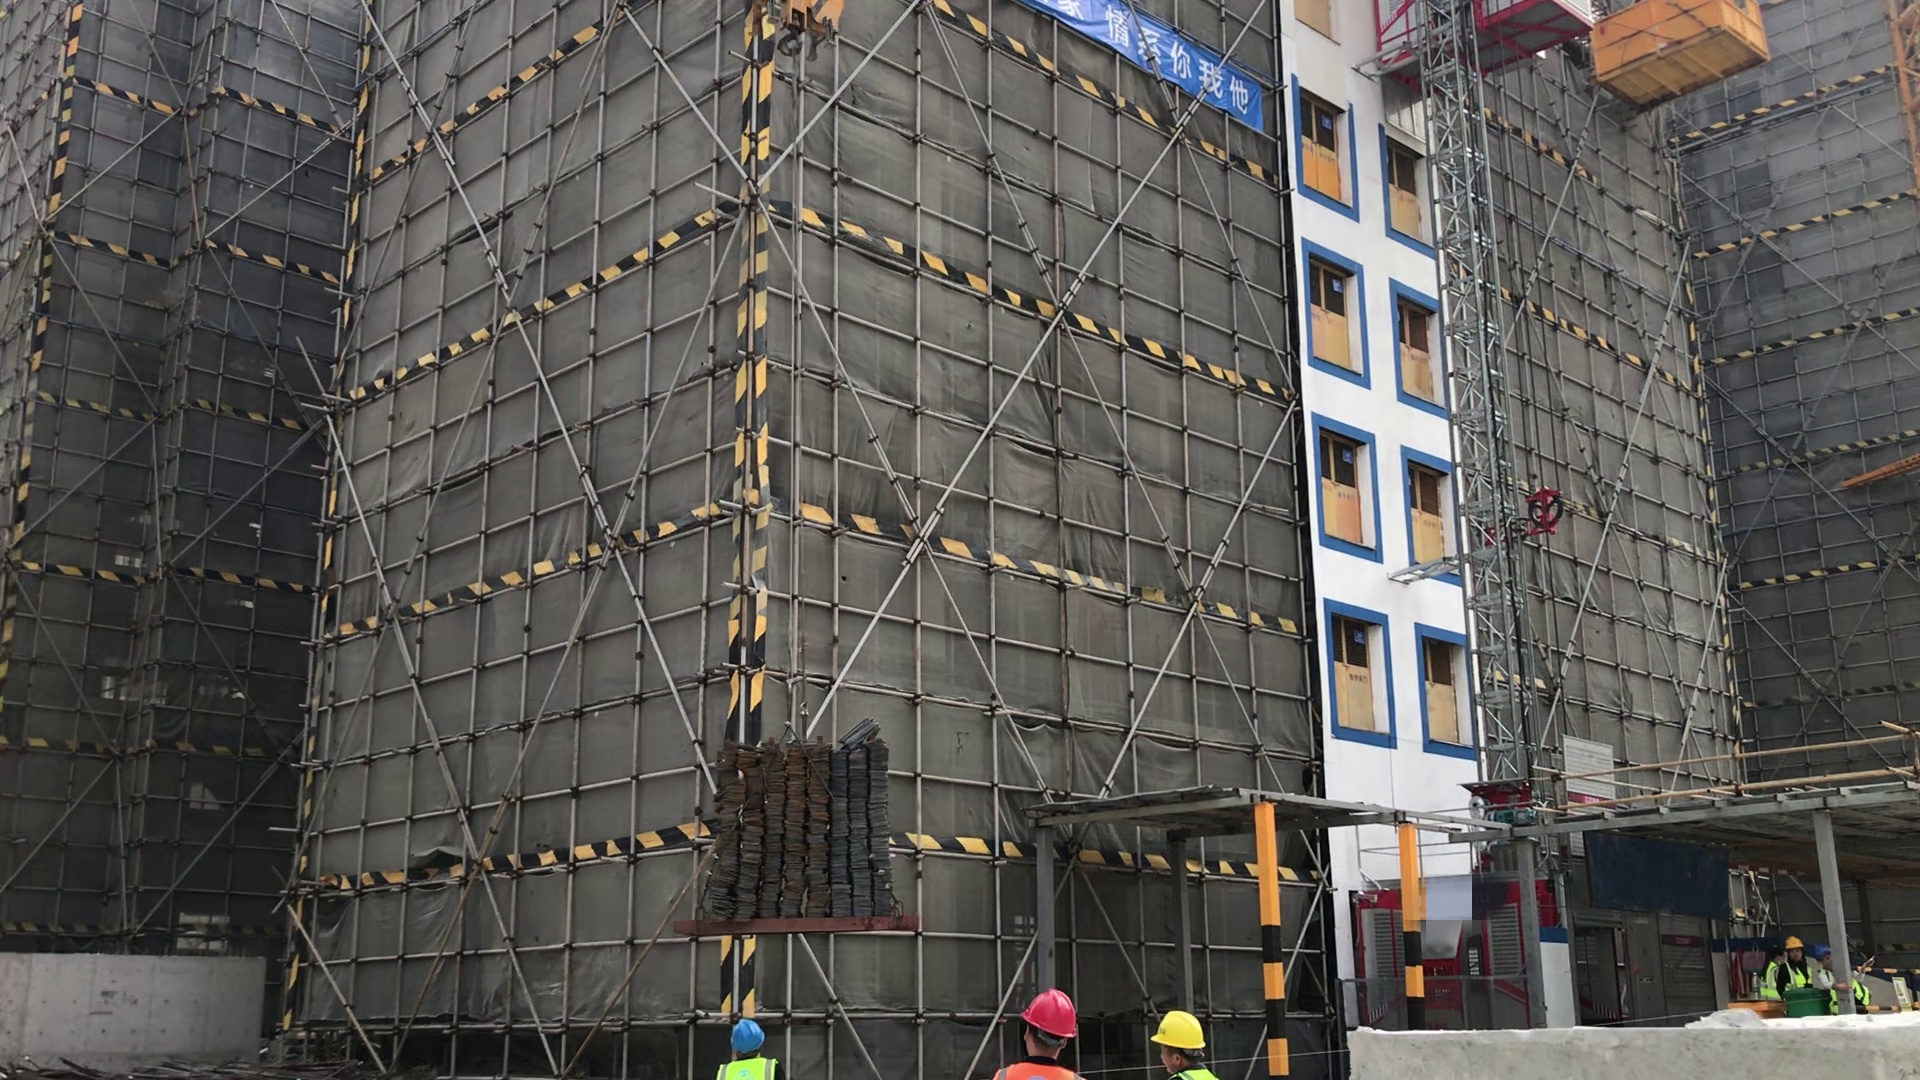helmet: (1021, 986, 1083, 1043), (1149, 1007, 1212, 1050), (718, 1015, 771, 1049), (1784, 935, 1804, 950), (1816, 942, 1829, 958)
person: (993, 979, 1089, 1080), (1146, 1001, 1230, 1080), (708, 1019, 790, 1080), (1816, 945, 1849, 1012), (1780, 931, 1813, 995), (1760, 940, 1785, 996)
vest: (1819, 968, 1877, 1016), (986, 1052, 1079, 1080), (719, 1055, 773, 1080), (1783, 959, 1813, 993), (1167, 1064, 1220, 1080), (1767, 961, 1782, 992)
